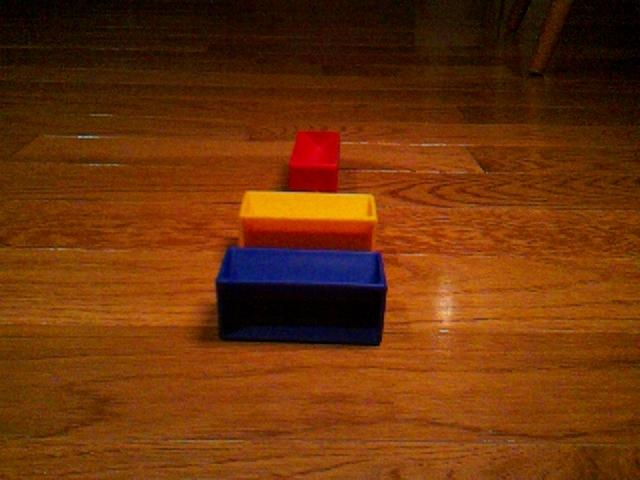blue: (215, 244, 389, 347)
red: (287, 129, 341, 192)
yellow: (238, 189, 379, 250)
